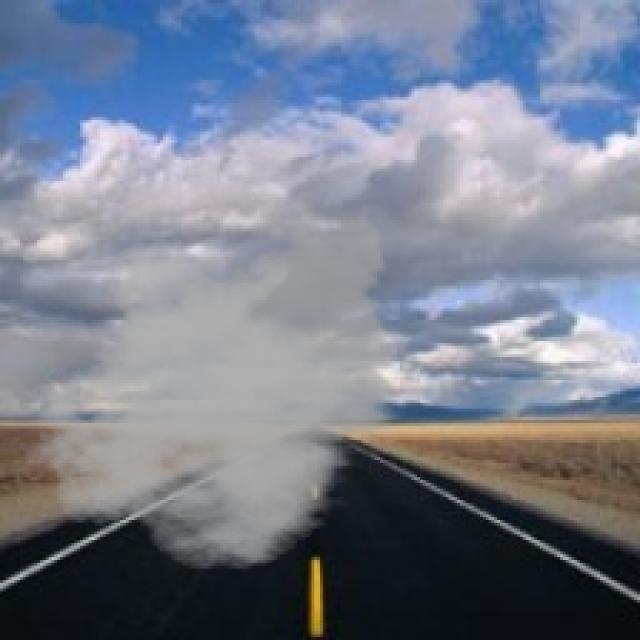smoke: (23, 200, 408, 571)
